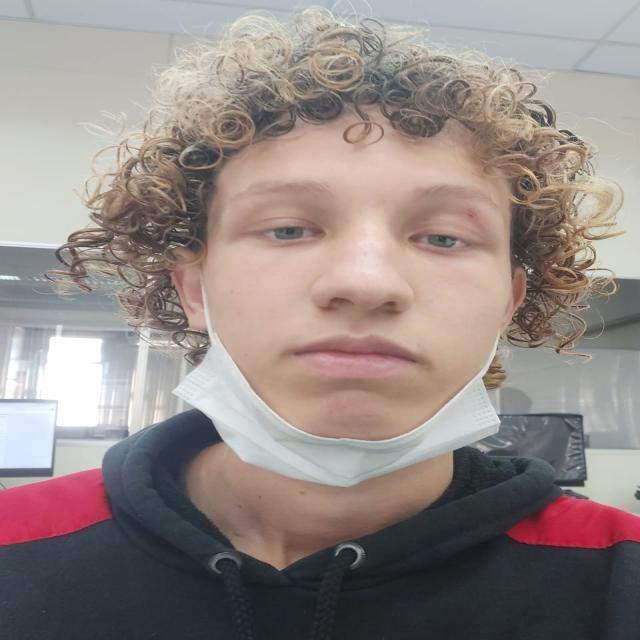hairnet: (206, 139, 502, 473)
